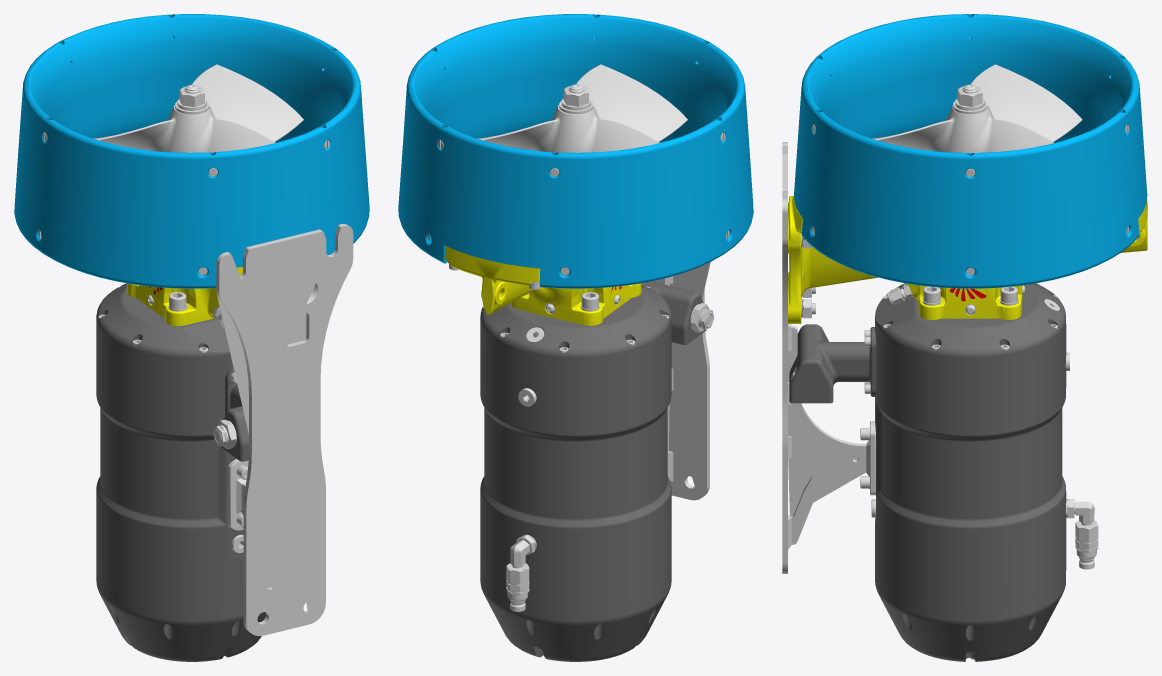
Rendered from Thruster_Unity.fbx.
The picture shows the model from 3 angles, left to right: view 1: azimuth 30°, elevation 25°; view 2: azimuth 150°, elevation 25°; view 3: azimuth 270°, elevation 25°; orthographic projection.
Parts seen in each view (by area): view 1: Sub_Atlantic, Main, Mount_Flat, Prop; view 2: Sub_Atlantic, Main, Prop, Mount_Flat, Plug; view 3: Sub_Atlantic, Main, Mount_Flat, Prop, Plug.
Boxes of the visible parts, x1,y1,x2,y2 form: Sub_Atlantic: (14,14,369,329); Main: (96,283,265,661); Mount_Flat: (216,224,353,636); Prop: (93,64,303,152); Sub_Atlantic: (398,14,753,325); Main: (480,281,714,661); Prop: (476,64,687,152); Mount_Flat: (652,262,710,500); Plug: (506,534,536,611); Sub_Atlantic: (788,14,1147,323); Main: (789,283,1069,661); Mount_Flat: (782,142,869,573); Prop: (872,64,1082,153); Plug: (1065,499,1098,569).
Size of the model in its own units: 36.74 by 63 by 37.84.
